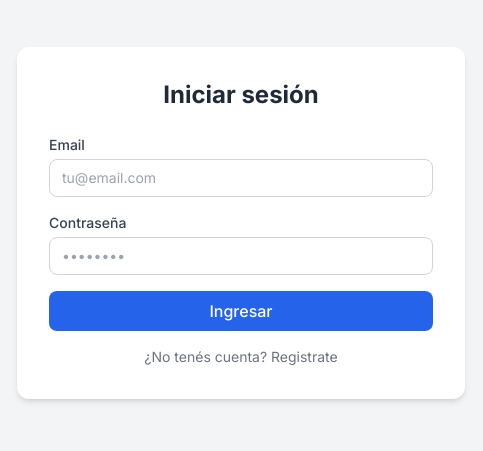
Login — interacción › muestra error si el login falla
This screenshot has width=483, height=451.
Type "gian@test.com" into the field with placeholder "tu@email.com" at [241, 178], box [49,159,433,197]
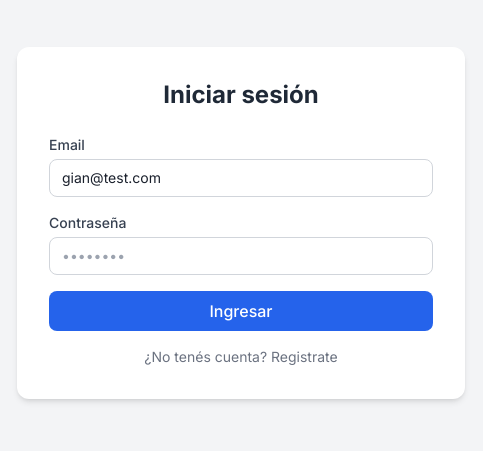
Type "mal_password" into the password field with placeholder "••••••••" at [241, 256], box [49,237,433,275]
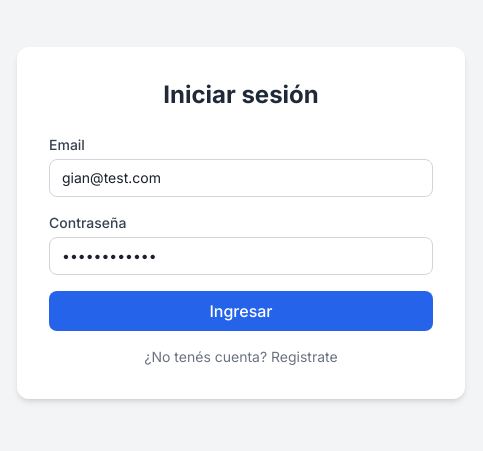
Click the button "Ingresar" at [241, 311], box [49,291,433,331]
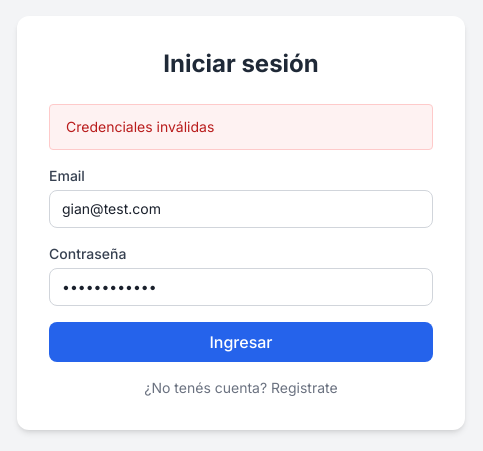
Expected: the text "Credenciales inválidas" is shown, [49,104,433,150]
